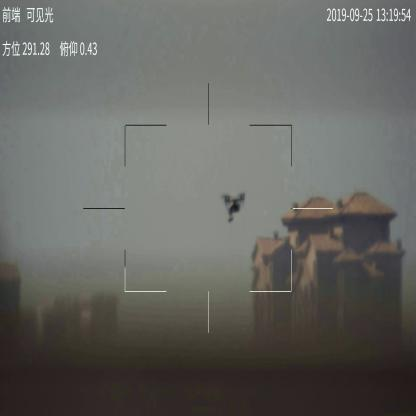uav: (222, 191, 246, 226)
